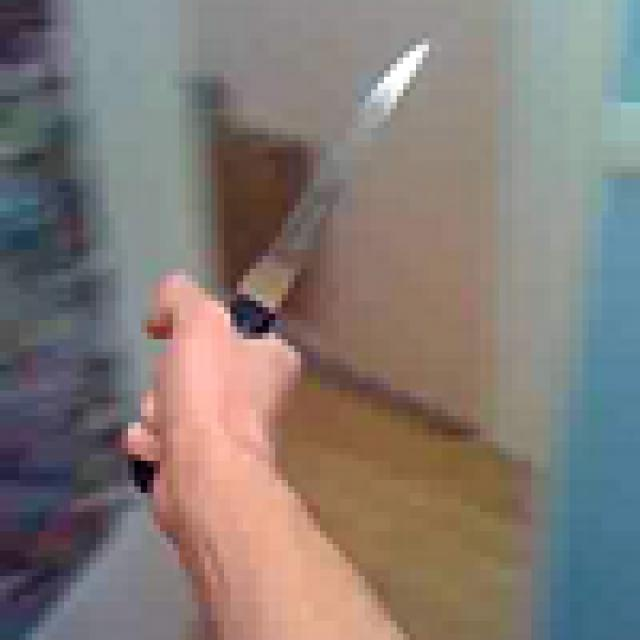Knife: (128, 26, 474, 506)
